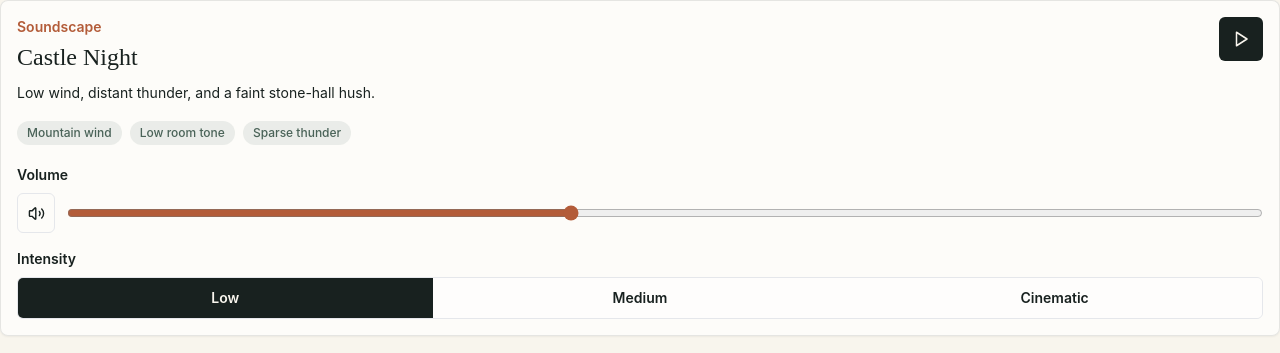
Test case: SoundscapePlayer › toggles play and pause state
Click the button named "play soundscape" at (1241, 39), box x1=1219 y1=17 x2=1263 y2=61
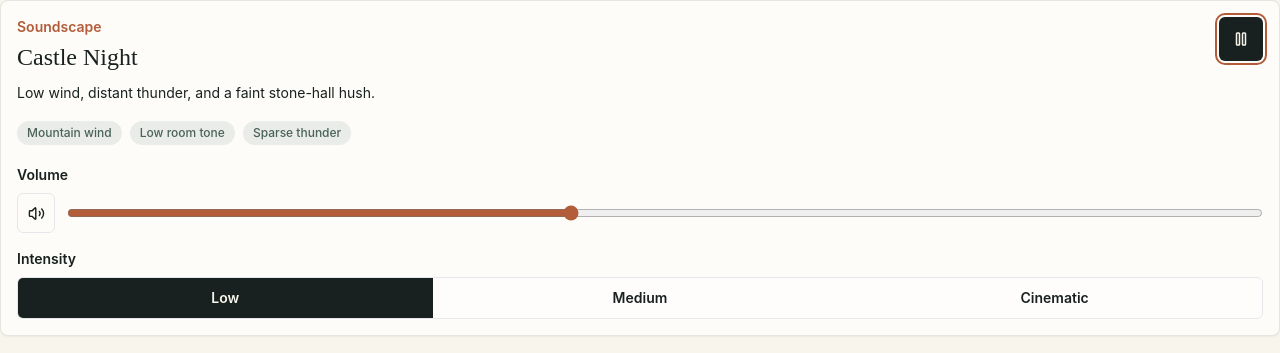
Check: the button named "pause soundscape" is shown
Click the button named "pause soundscape" at (1241, 39), box x1=1219 y1=17 x2=1263 y2=61
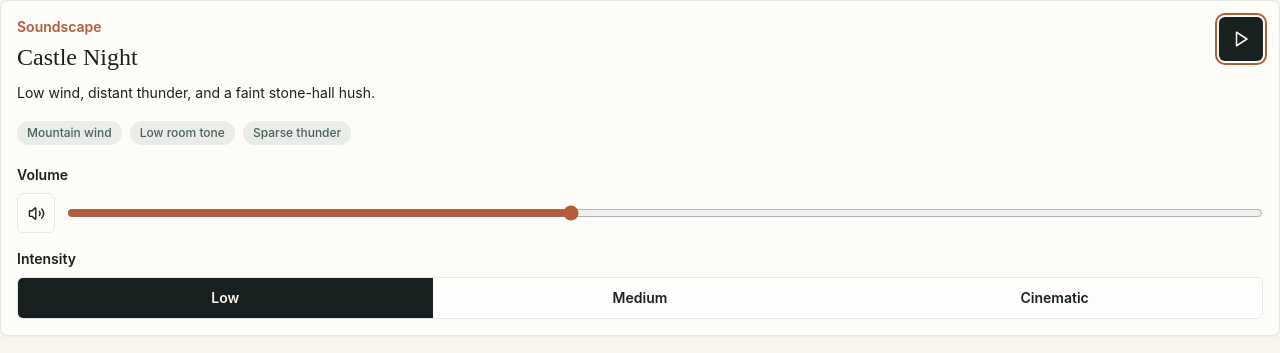
Check: the button named "play soundscape" is shown, box x1=1219 y1=17 x2=1263 y2=61
